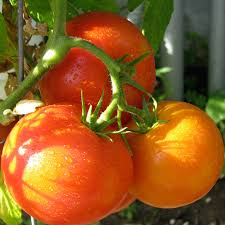stems: (89, 97, 119, 130), (123, 102, 151, 128), (116, 63, 131, 80)
tomato: (1, 102, 135, 225), (36, 11, 156, 120), (124, 99, 224, 209)
